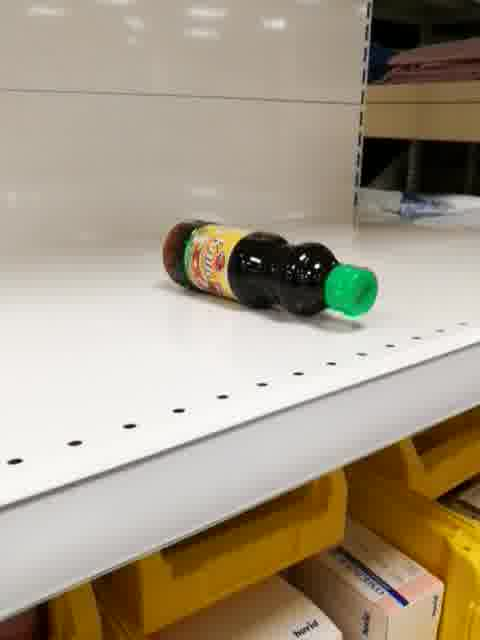cookingoil: (158, 215, 382, 322)
